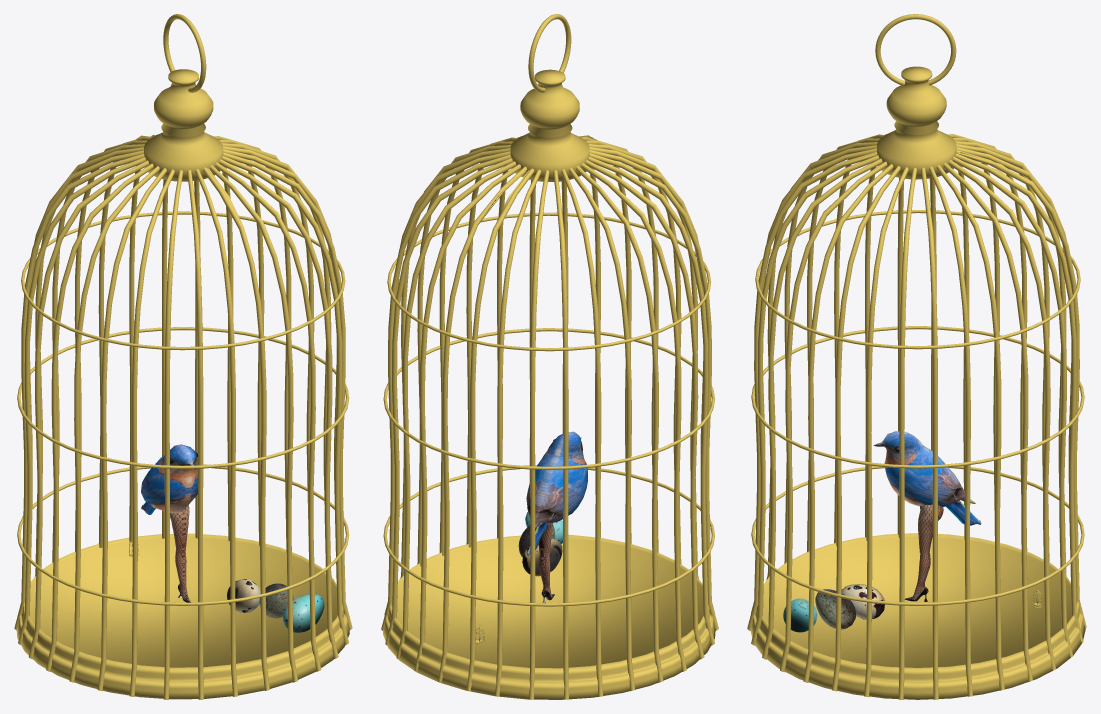
Rendered from bluebirdladyscene.gltf.
The picture shows the model from 3 angles, left to right: view 1: azimuth 30°, elevation 25°; view 2: azimuth 150°, elevation 25°; view 3: azimuth 270°, elevation 25°; orthographic projection.
Visible parts, largest first — view 1: BezierCircle.001, birdbod.001, Cylinder.004, Cylinder.005, Cylinder.007, Cylinder.006; view 2: BezierCircle.001, birdbod.001, Cylinder.004, Cylinder.007; view 3: BezierCircle.001, birdbod.001, Cylinder.004, Cylinder.006, Cylinder.007, Cylinder.005.
Part boxes in pixels (<box>): BezierCircle.001: <box>14,14,352,699</box>; birdbod.001: <box>141,444,197,514</box>; Cylinder.004: <box>170,505,190,602</box>; Cylinder.005: <box>283,594,324,632</box>; Cylinder.007: <box>227,579,260,612</box>; Cylinder.006: <box>259,583,293,618</box>; BezierCircle.001: <box>381,14,718,699</box>; birdbod.001: <box>526,431,587,555</box>; Cylinder.004: <box>529,516,554,603</box>; Cylinder.007: <box>522,538,562,576</box>; BezierCircle.001: <box>747,14,1086,699</box>; birdbod.001: <box>873,431,981,525</box>; Cylinder.004: <box>905,504,943,601</box>; Cylinder.006: <box>815,589,856,629</box>; Cylinder.007: <box>841,584,884,619</box>; Cylinder.005: <box>783,598,817,632</box>.
Size of the model in its own units: 2215 by 4462 by 2226.
Materials: 11 (4 with a texture image).
